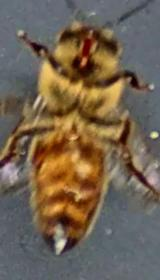varroa_mite: (22, 138, 57, 172)
